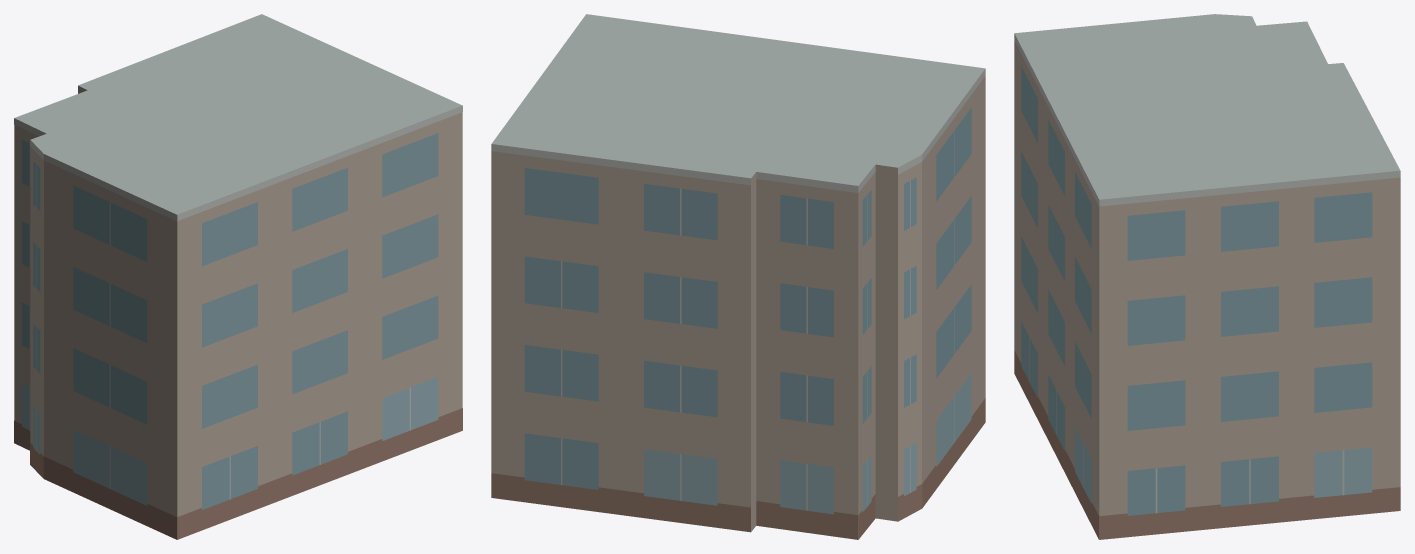
Rendered from survey-upis-32799287.glb.
The picture shows the model from 3 angles, left to right: view 1: azimuth 30°, elevation 25°; view 2: azimuth 150°, elevation 25°; view 3: azimuth 270°, elevation 25°; orthographic projection. The views are drawn at different scales.
Parts seen in each view (by area): view 1: survey-upis-32799287.tmp; view 2: survey-upis-32799287.tmp; view 3: survey-upis-32799287.tmp.
Part boxes in pixels (x1,y1,x2,y2): survey-upis-32799287.tmp: (14,14,462,539); survey-upis-32799287.tmp: (491,14,985,539); survey-upis-32799287.tmp: (1014,14,1400,539).
Size of the model in its own units: 14.3 by 12.2 by 12.57.
